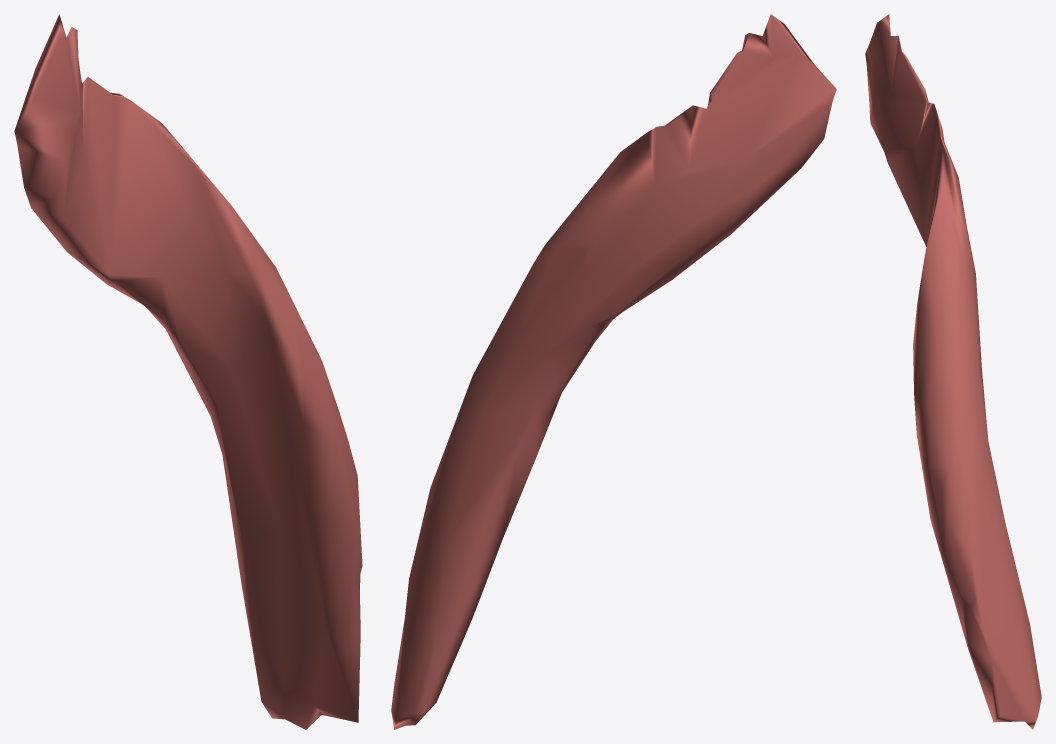
3 views of the same model, side by side, from view 1: azimuth 30°, elevation 25°; view 2: azimuth 150°, elevation 25°; view 3: azimuth 270°, elevation 25° (orthographic). The views are drawn at different scales.
Visible parts, largest first — view 1: 左侧小趾对跖肌; view 2: 左侧小趾对跖肌; view 3: 左侧小趾对跖肌.
Boxes of the visible parts, bbox=[...] form: 左侧小趾对跖肌: bbox=[14, 14, 362, 729]; 左侧小趾对跖肌: bbox=[391, 14, 836, 729]; 左侧小趾对跖肌: bbox=[865, 14, 1041, 729].
Bounding box in the file's own units: 0.0333 × 0.0638 × 0.017.
